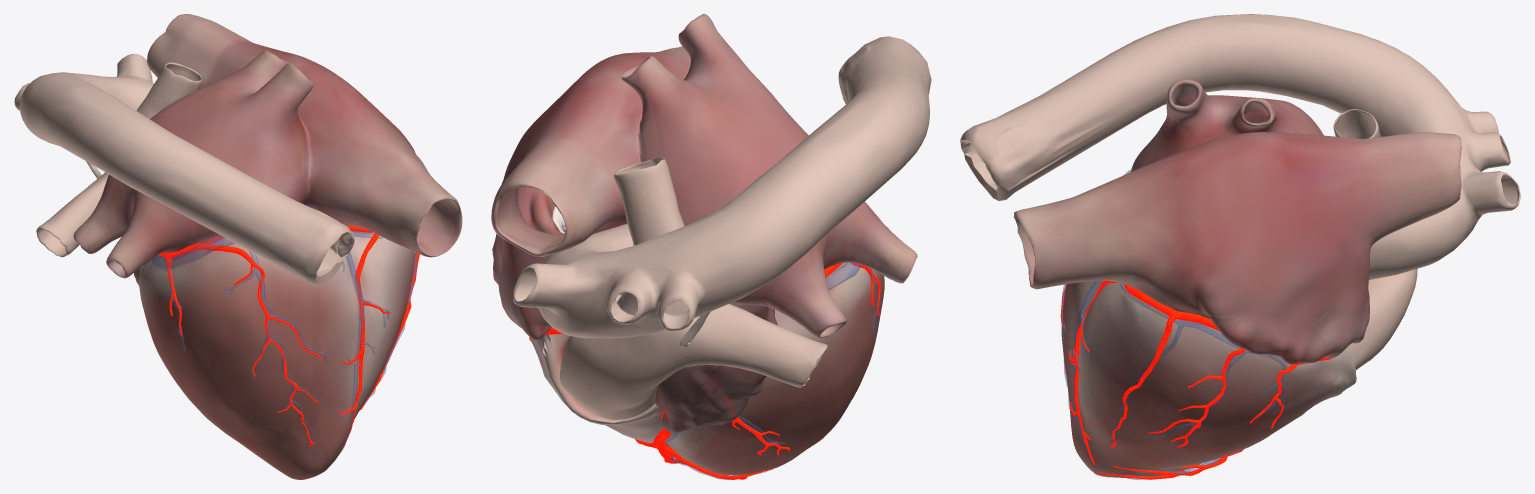
File: anatomical_heart__codominance.glb
The picture shows the model from 3 angles, left to right: view 1: azimuth 30°, elevation 25°; view 2: azimuth 150°, elevation 25°; view 3: azimuth 270°, elevation 25°; orthographic projection. The views are drawn at different scales.
Parts seen in each view (by area): view 1: Hart_basis, Aorta, Veins, Pulmonary_trunk, Arteries2; view 2: Hart_basis, Aorta, Pulmonary_trunk, Heartear, Arteries2, Veins; view 3: Hart_basis, Aorta, Arteries2, Pulmonary_trunk, Veins.
Boxes of the visible parts, left/top/right/bottom form: Hart_basis: left=73, top=14, right=462, bottom=479; Aorta: left=14, top=54, right=354, bottom=284; Veins: left=150, top=204, right=417, bottom=465; Pulmonary_trunk: left=36, top=62, right=201, bottom=257; Arteries2: left=158, top=225, right=419, bottom=468; Hart_basis: left=491, top=14, right=917, bottom=475; Aorta: left=513, top=36, right=931, bottom=338; Pulmonary_trunk: left=560, top=157, right=828, bottom=419; Heartear: left=655, top=302, right=777, bottom=432; Arteries2: left=529, top=262, right=880, bottom=479; Veins: left=663, top=263, right=879, bottom=479; Hart_basis: left=1013, top=79, right=1461, bottom=478; Aorta: left=960, top=14, right=1520, bottom=280; Arteries2: left=1060, top=280, right=1331, bottom=479; Pulmonary_trunk: left=1333, top=109, right=1417, bottom=369; Veins: left=1061, top=170, right=1286, bottom=479.
Size of the model in its own units: 302 by 336 by 418.
